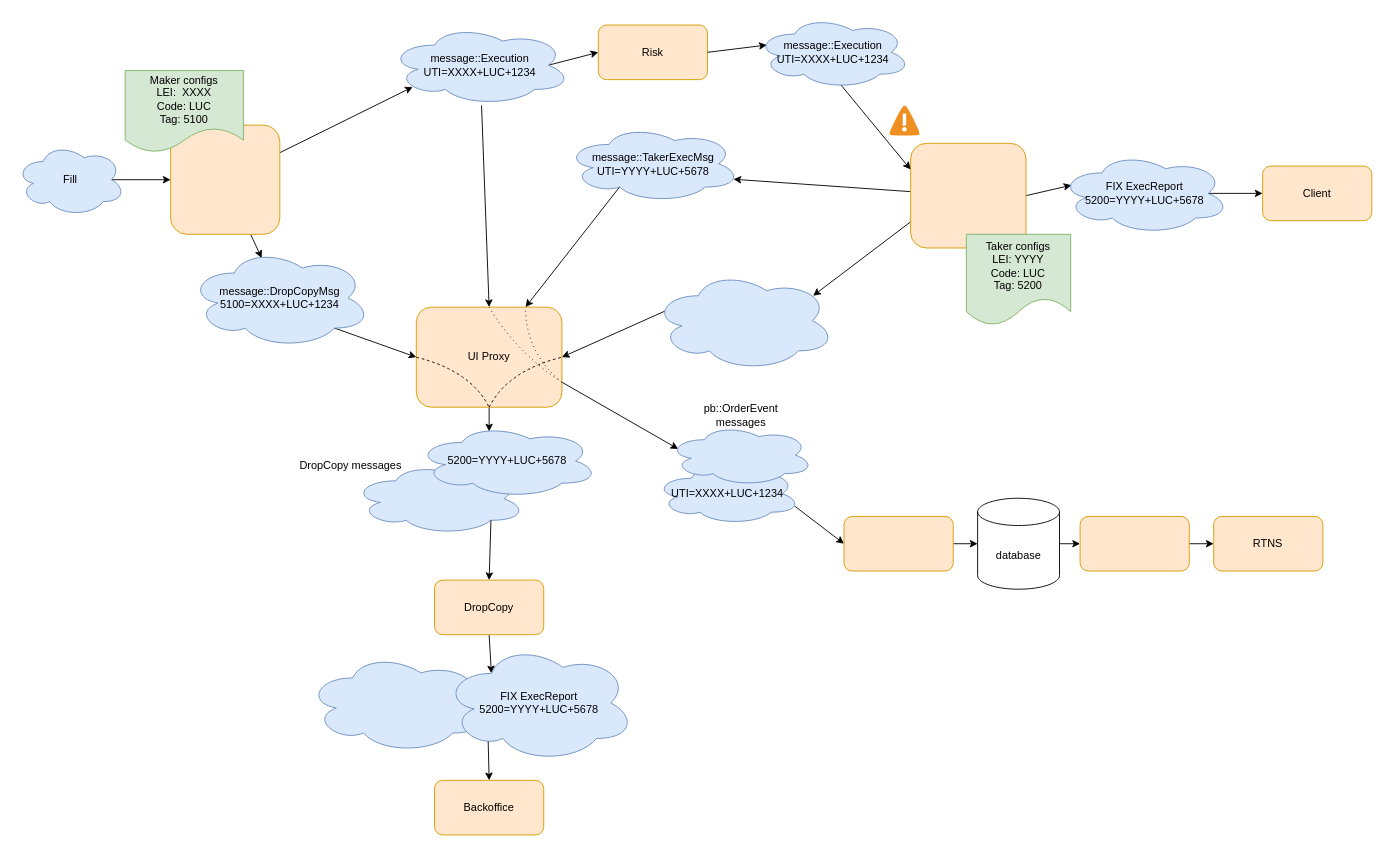
Some shapes in this 1388 by 851 pixel diagram are drawn without their labels. Each missing label, with the box of its shape:
5100=XXXX+LUC+1234: (352, 462, 526, 535)
EAPI: (1079, 516, 1189, 571)
FIX ExecReport 5100=XXXX+LUC+1234: (306, 652, 489, 753)
Maker generates unique event ID for the fill (e.g. 1234): (170, 124, 280, 234)
message::DropCopyMsg 5200=YYYY+LUC+5678: (652, 270, 835, 371)
Orderly: (843, 516, 953, 571)
Taker generates unique event ID for the fill (e.g. 5678): (910, 142, 1026, 248)
UTI=YYYY+LUC+5678: (667, 423, 814, 486)
XXXX+LUC+1234 is discarded!: (889, 105, 919, 135)
